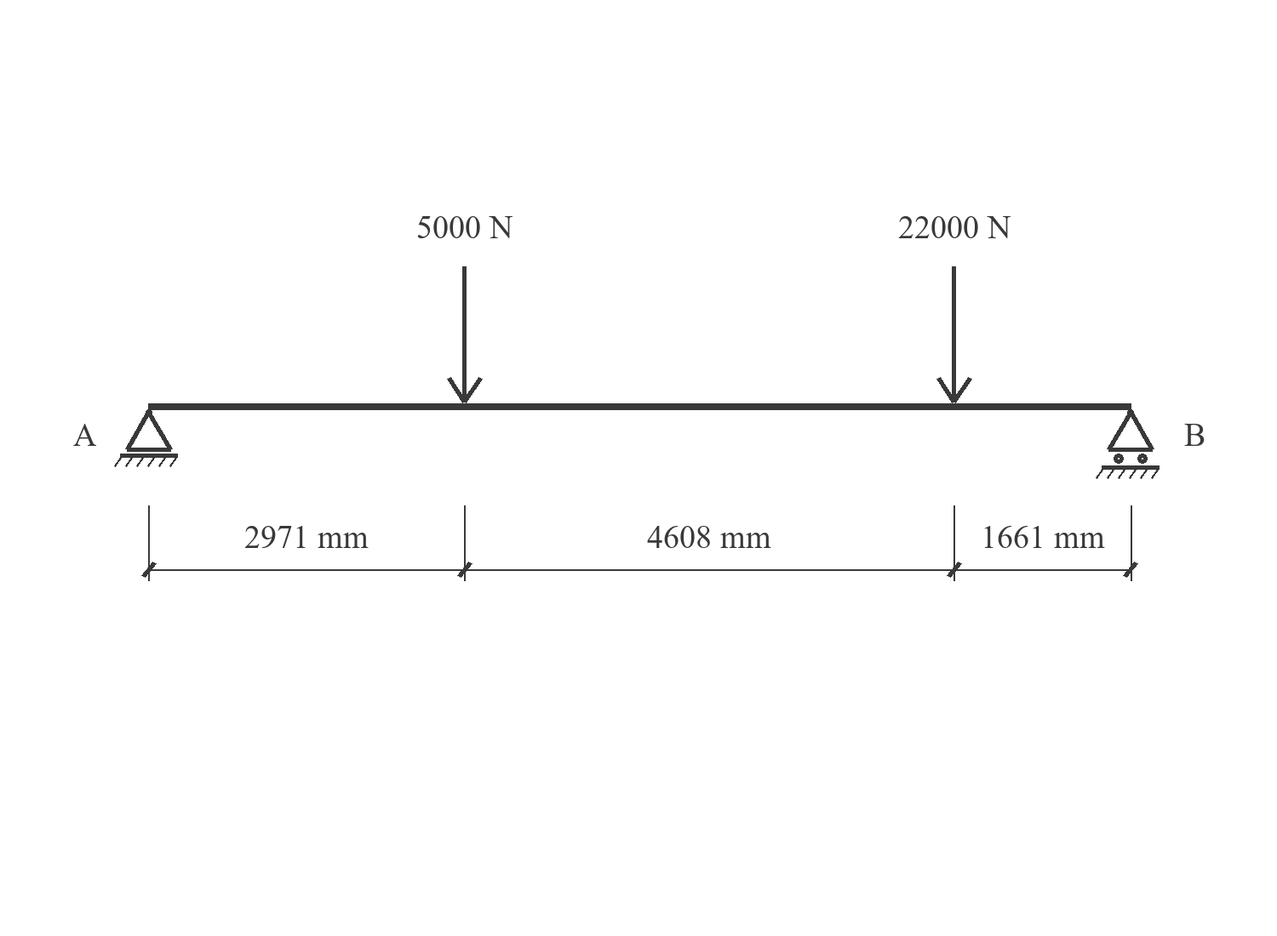pin_support: (114, 409, 178, 467)
point_load: (447, 266, 483, 403), (936, 266, 972, 403)
roller_support: (1096, 409, 1160, 479)
